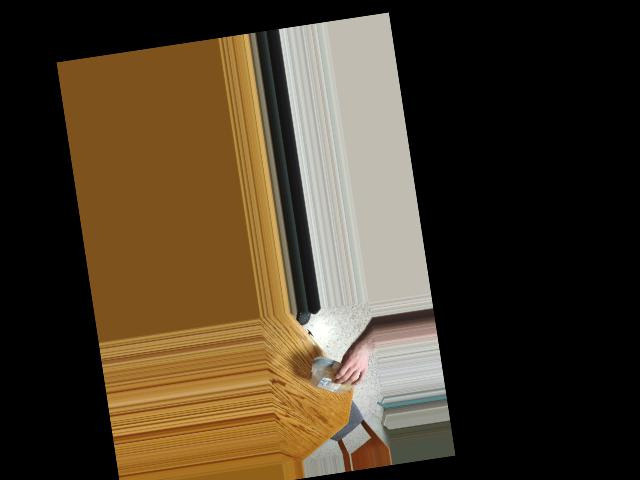cheese: (310, 356, 355, 391)
